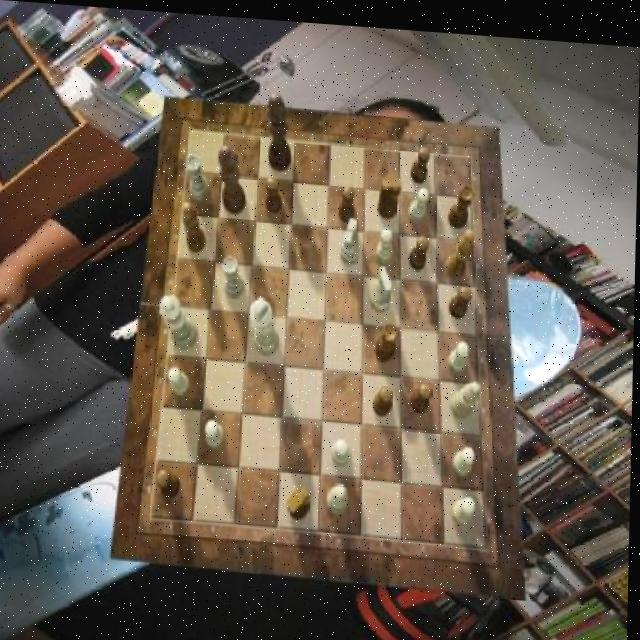bishop: (446, 220, 475, 272), (183, 198, 208, 251)
black-bishop: (267, 88, 294, 167)
black-king: (380, 173, 403, 215), (290, 482, 313, 516)
black-knight: (451, 277, 474, 312), (411, 139, 431, 178), (411, 229, 431, 266), (412, 375, 435, 407), (159, 467, 184, 496), (267, 173, 285, 210), (375, 379, 394, 411), (340, 181, 356, 218)
black-pawn: (218, 142, 248, 211)
black-queen: (449, 177, 476, 224), (375, 316, 399, 356)
black-rook: (452, 373, 482, 413), (328, 478, 351, 510)
white-bishop: (250, 292, 281, 352)
white-king: (370, 259, 394, 306), (342, 213, 363, 260)
white-knight: (409, 181, 430, 216), (451, 334, 472, 368), (454, 439, 477, 470), (454, 490, 478, 519), (170, 364, 194, 393), (377, 222, 395, 259), (208, 417, 227, 446), (334, 434, 353, 460)
white-pawn: (161, 291, 201, 348)
white-queen: (188, 151, 212, 198), (223, 254, 246, 296)
